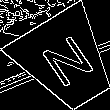N_SE: (34, 30, 98, 94)
